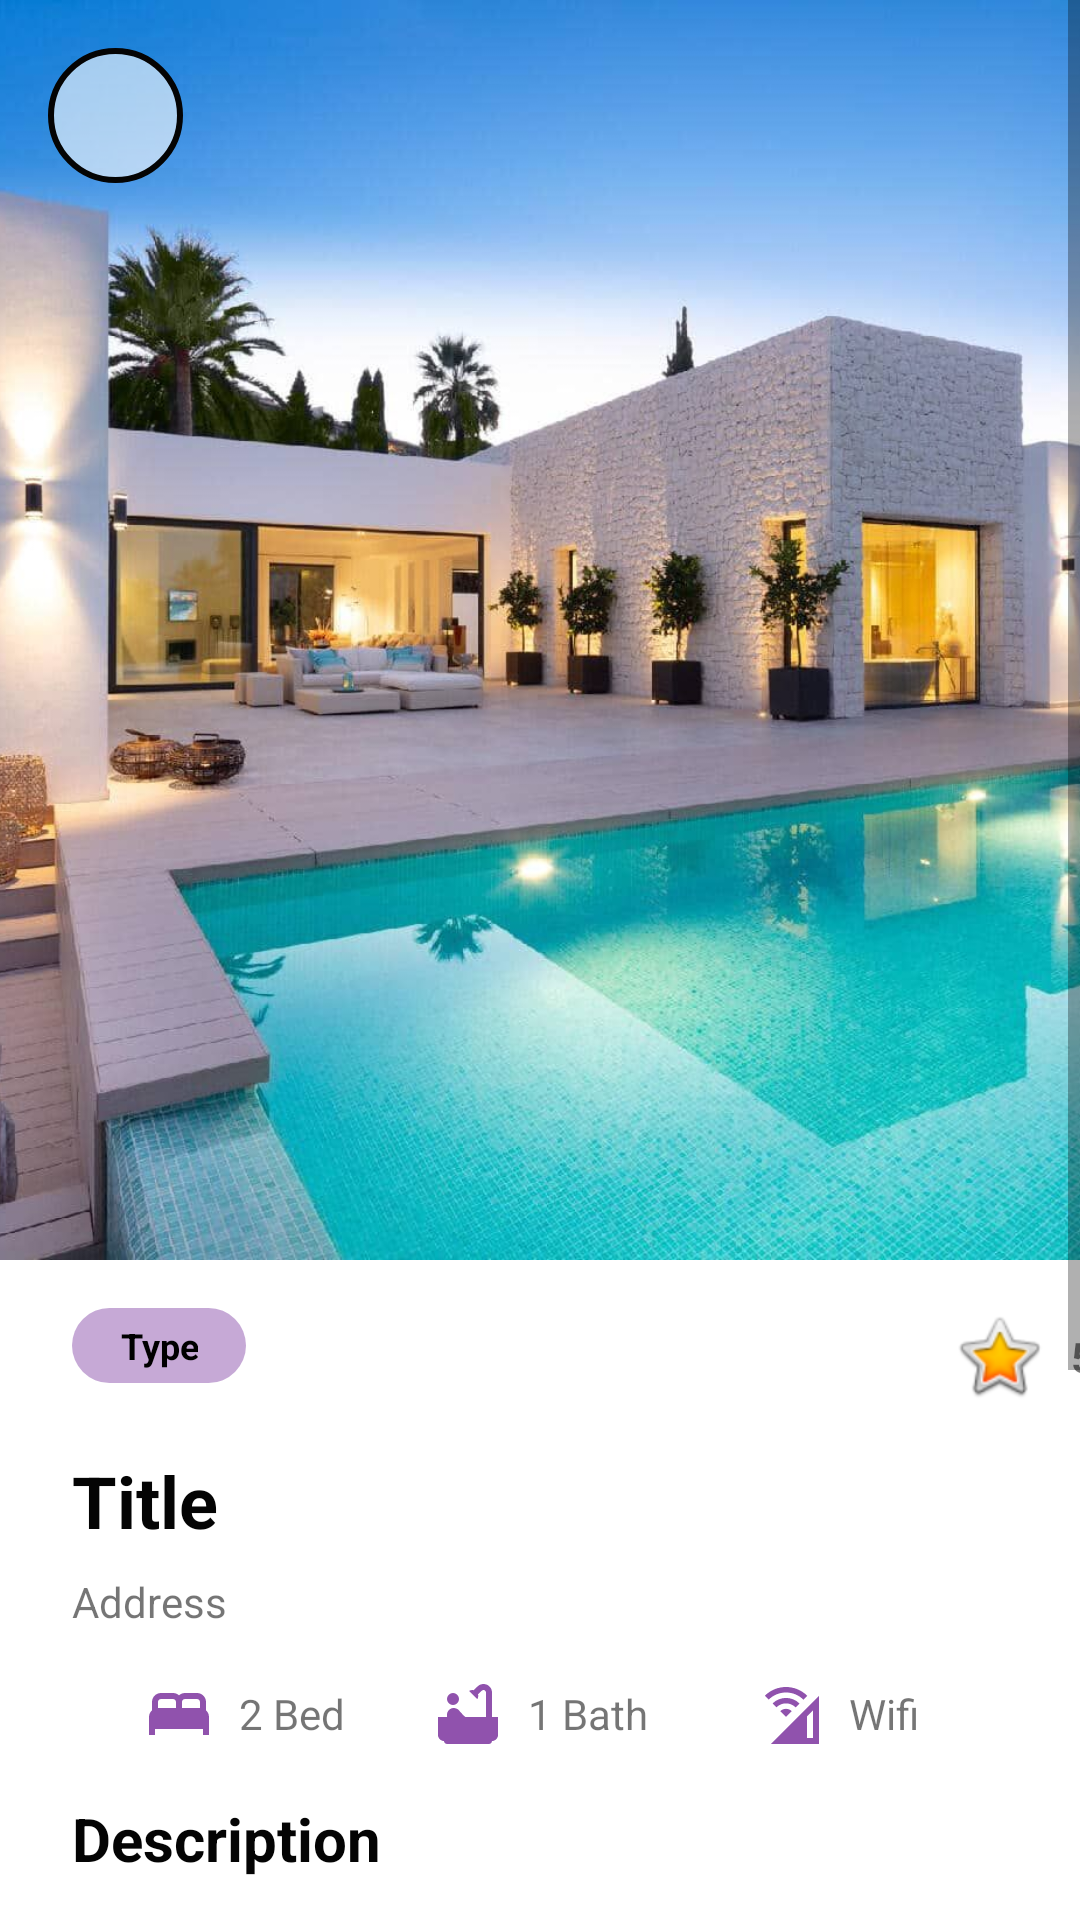

Where to tap for icons on this 1080 × 1920 app screen, as point (x, y):
bathtub: point (468, 1714)
star on: point (1000, 1357)
